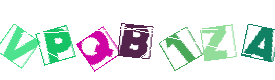1: (97, 0, 177, 80)
A: (194, 0, 274, 80)
B: (94, 0, 174, 80)
P: (58, 0, 138, 80)
Q: (63, 0, 143, 80)
V: (0, 0, 80, 80)
Z: (146, 0, 226, 80)
